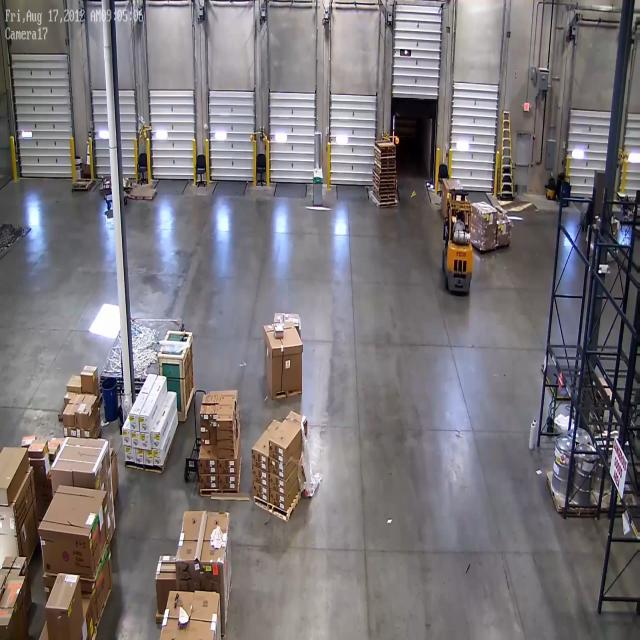human: (457, 213, 468, 244)
product 1: (54, 435, 121, 565), (181, 508, 235, 611), (39, 495, 109, 573), (166, 590, 223, 640), (263, 324, 303, 394), (440, 179, 463, 215), (472, 223, 493, 250), (274, 312, 302, 332), (473, 202, 493, 228), (498, 225, 514, 243)
product 2: (272, 325, 284, 337)
product 3: (122, 430, 132, 449), (140, 438, 151, 453), (124, 446, 135, 460), (153, 451, 162, 468), (152, 432, 160, 448), (139, 416, 148, 430), (130, 414, 138, 429), (132, 430, 139, 446), (136, 450, 142, 462), (145, 454, 152, 464)
product 4: (80, 363, 100, 398), (36, 480, 51, 518), (199, 446, 217, 474), (249, 445, 267, 467), (269, 441, 286, 464), (269, 473, 287, 494), (269, 456, 286, 478), (218, 406, 234, 428), (252, 483, 268, 504), (252, 467, 268, 487), (77, 404, 93, 424), (67, 372, 83, 391), (28, 442, 47, 458), (29, 458, 49, 473), (270, 491, 286, 509), (62, 402, 76, 422), (218, 459, 236, 474), (86, 394, 98, 415), (219, 475, 235, 490), (78, 427, 95, 439), (199, 478, 219, 488), (62, 426, 76, 439), (497, 206, 508, 221), (217, 430, 234, 439), (200, 405, 207, 426), (72, 392, 83, 405), (22, 437, 35, 448), (211, 405, 217, 428), (64, 389, 74, 402), (94, 410, 101, 428), (218, 439, 233, 447), (50, 441, 59, 454), (219, 448, 233, 456), (200, 437, 212, 445), (222, 396, 235, 403), (210, 427, 218, 438), (212, 393, 218, 406), (201, 427, 208, 436), (203, 396, 210, 404)
product 5: (1, 484, 38, 557), (1, 444, 30, 500), (4, 550, 32, 606), (47, 579, 77, 628), (156, 555, 177, 603), (93, 558, 120, 592), (10, 575, 28, 612), (0, 607, 18, 638), (83, 600, 97, 636), (0, 574, 4, 604)
